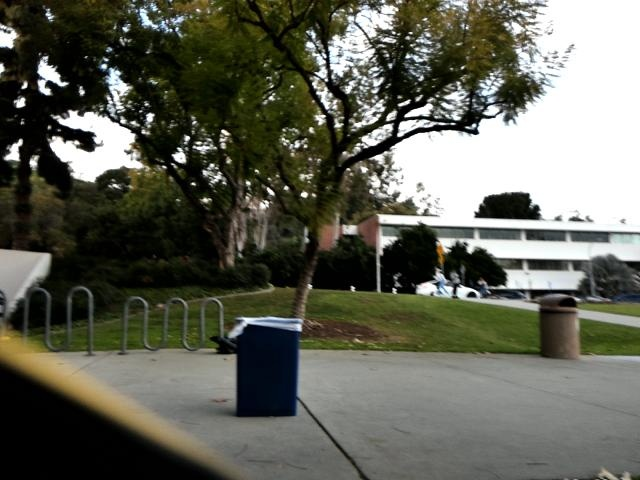trashcan_open: (227, 313, 308, 430)
